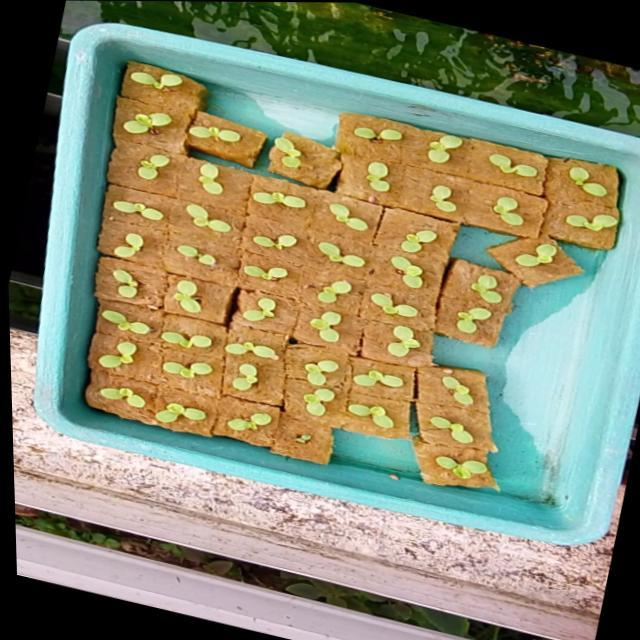Baby: (536, 163, 598, 200), (480, 237, 538, 275), (95, 146, 160, 178), (466, 153, 524, 183), (364, 254, 415, 288), (322, 363, 375, 395), (136, 241, 196, 269), (58, 305, 117, 333), (60, 265, 103, 300), (345, 287, 395, 317), (206, 289, 251, 322), (523, 198, 577, 225), (156, 200, 202, 229), (447, 268, 484, 303), (407, 455, 460, 479), (402, 415, 446, 443), (291, 239, 337, 265), (358, 323, 392, 356), (116, 403, 169, 424), (80, 195, 132, 216), (136, 277, 167, 312), (190, 340, 246, 359), (59, 339, 98, 366), (318, 407, 363, 430), (404, 133, 439, 162), (60, 387, 108, 408), (221, 228, 271, 248), (279, 309, 311, 340), (375, 225, 413, 251), (271, 385, 303, 415), (125, 329, 178, 347), (273, 358, 308, 385), (414, 375, 445, 405), (467, 195, 497, 225), (191, 412, 237, 431), (289, 278, 324, 302), (168, 159, 194, 190), (430, 311, 465, 334), (79, 230, 112, 254), (197, 363, 224, 391), (340, 159, 365, 189), (305, 201, 334, 226), (214, 262, 259, 278), (405, 183, 431, 210), (127, 361, 166, 377)
